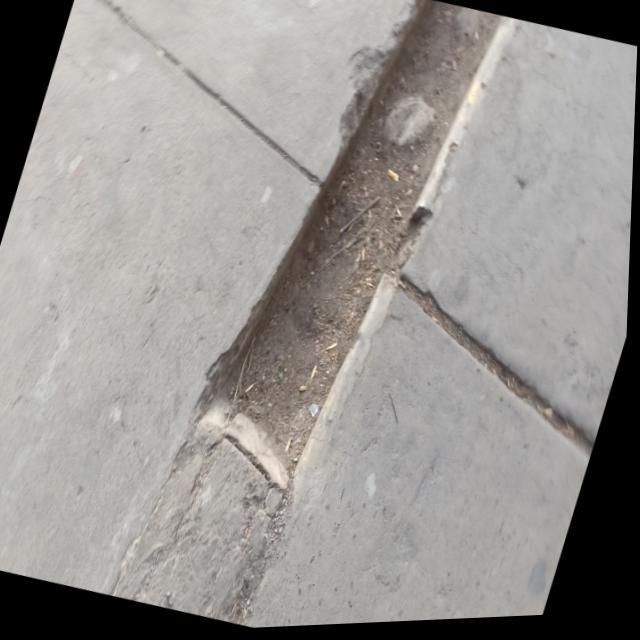hole: (172, 24, 512, 520)
